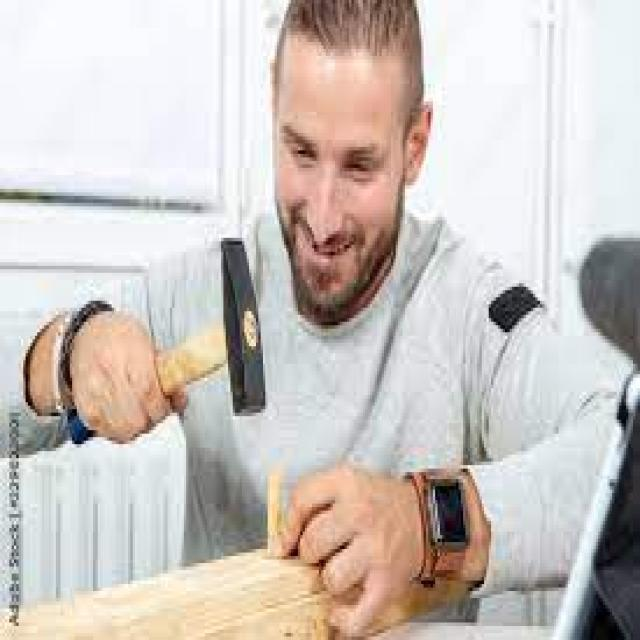hammer: (52, 228, 280, 484)
